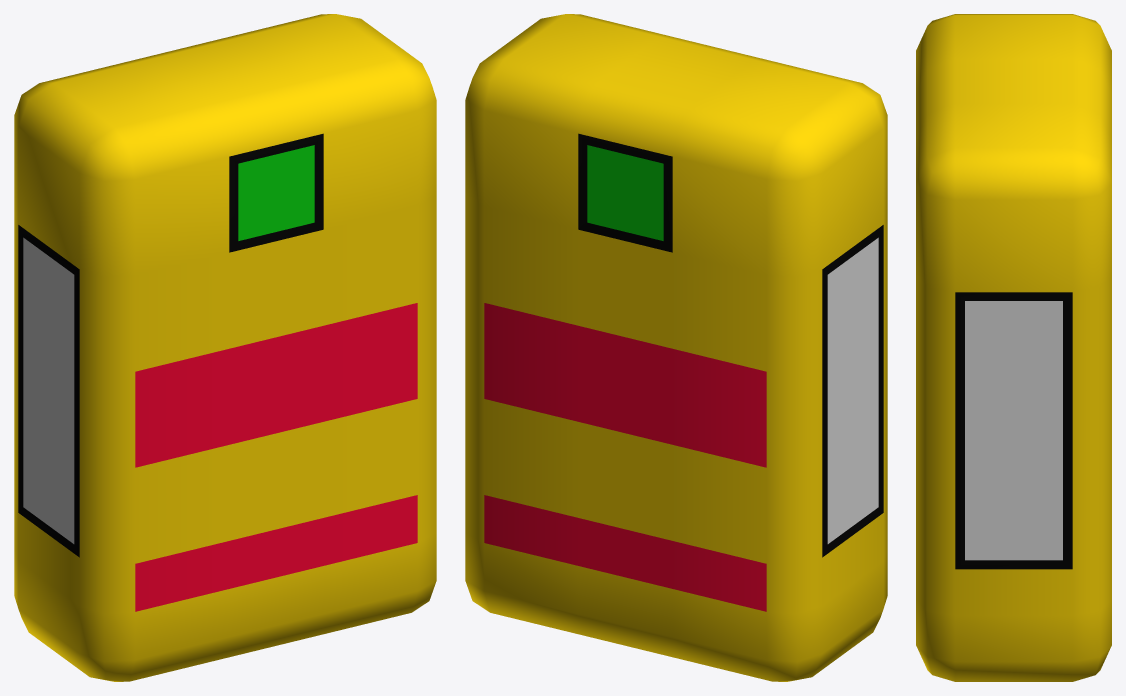
Rendered from flour.glb.
3 views of the same model, side by side, from view 1: azimuth 30°, elevation 25°; view 2: azimuth 150°, elevation 25°; view 3: azimuth 270°, elevation 25° (orthographic). The views are drawn at different scales.
Visible parts, largest first — view 1: flour; view 2: flour; view 3: flour.
Part boxes in pixels (<box>): flour: <box>14,14,436,681</box>; flour: <box>465,14,887,681</box>; flour: <box>916,14,1111,681</box>.
Size of the model in its own units: 0.2 by 0.3 by 0.1.
